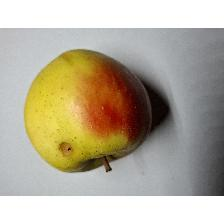Apfel: (21, 43, 157, 176)
